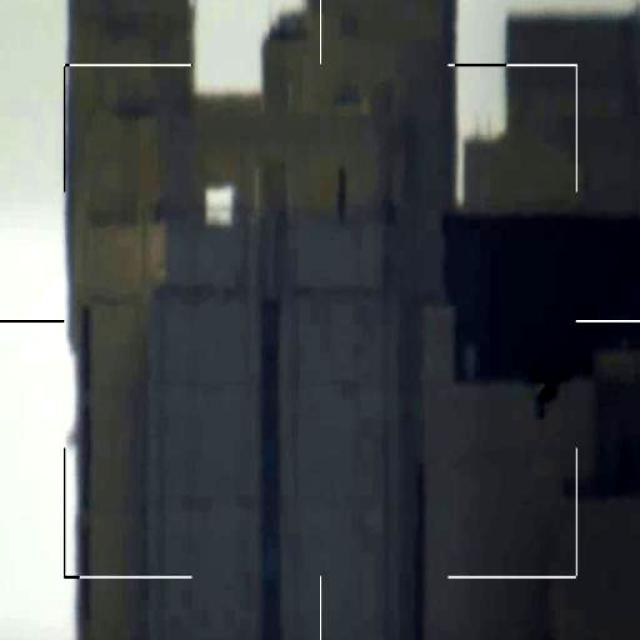bird: (525, 358, 568, 421)
